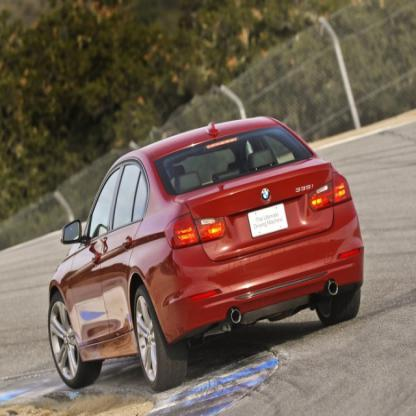Vehicle: (48, 116, 367, 394)
